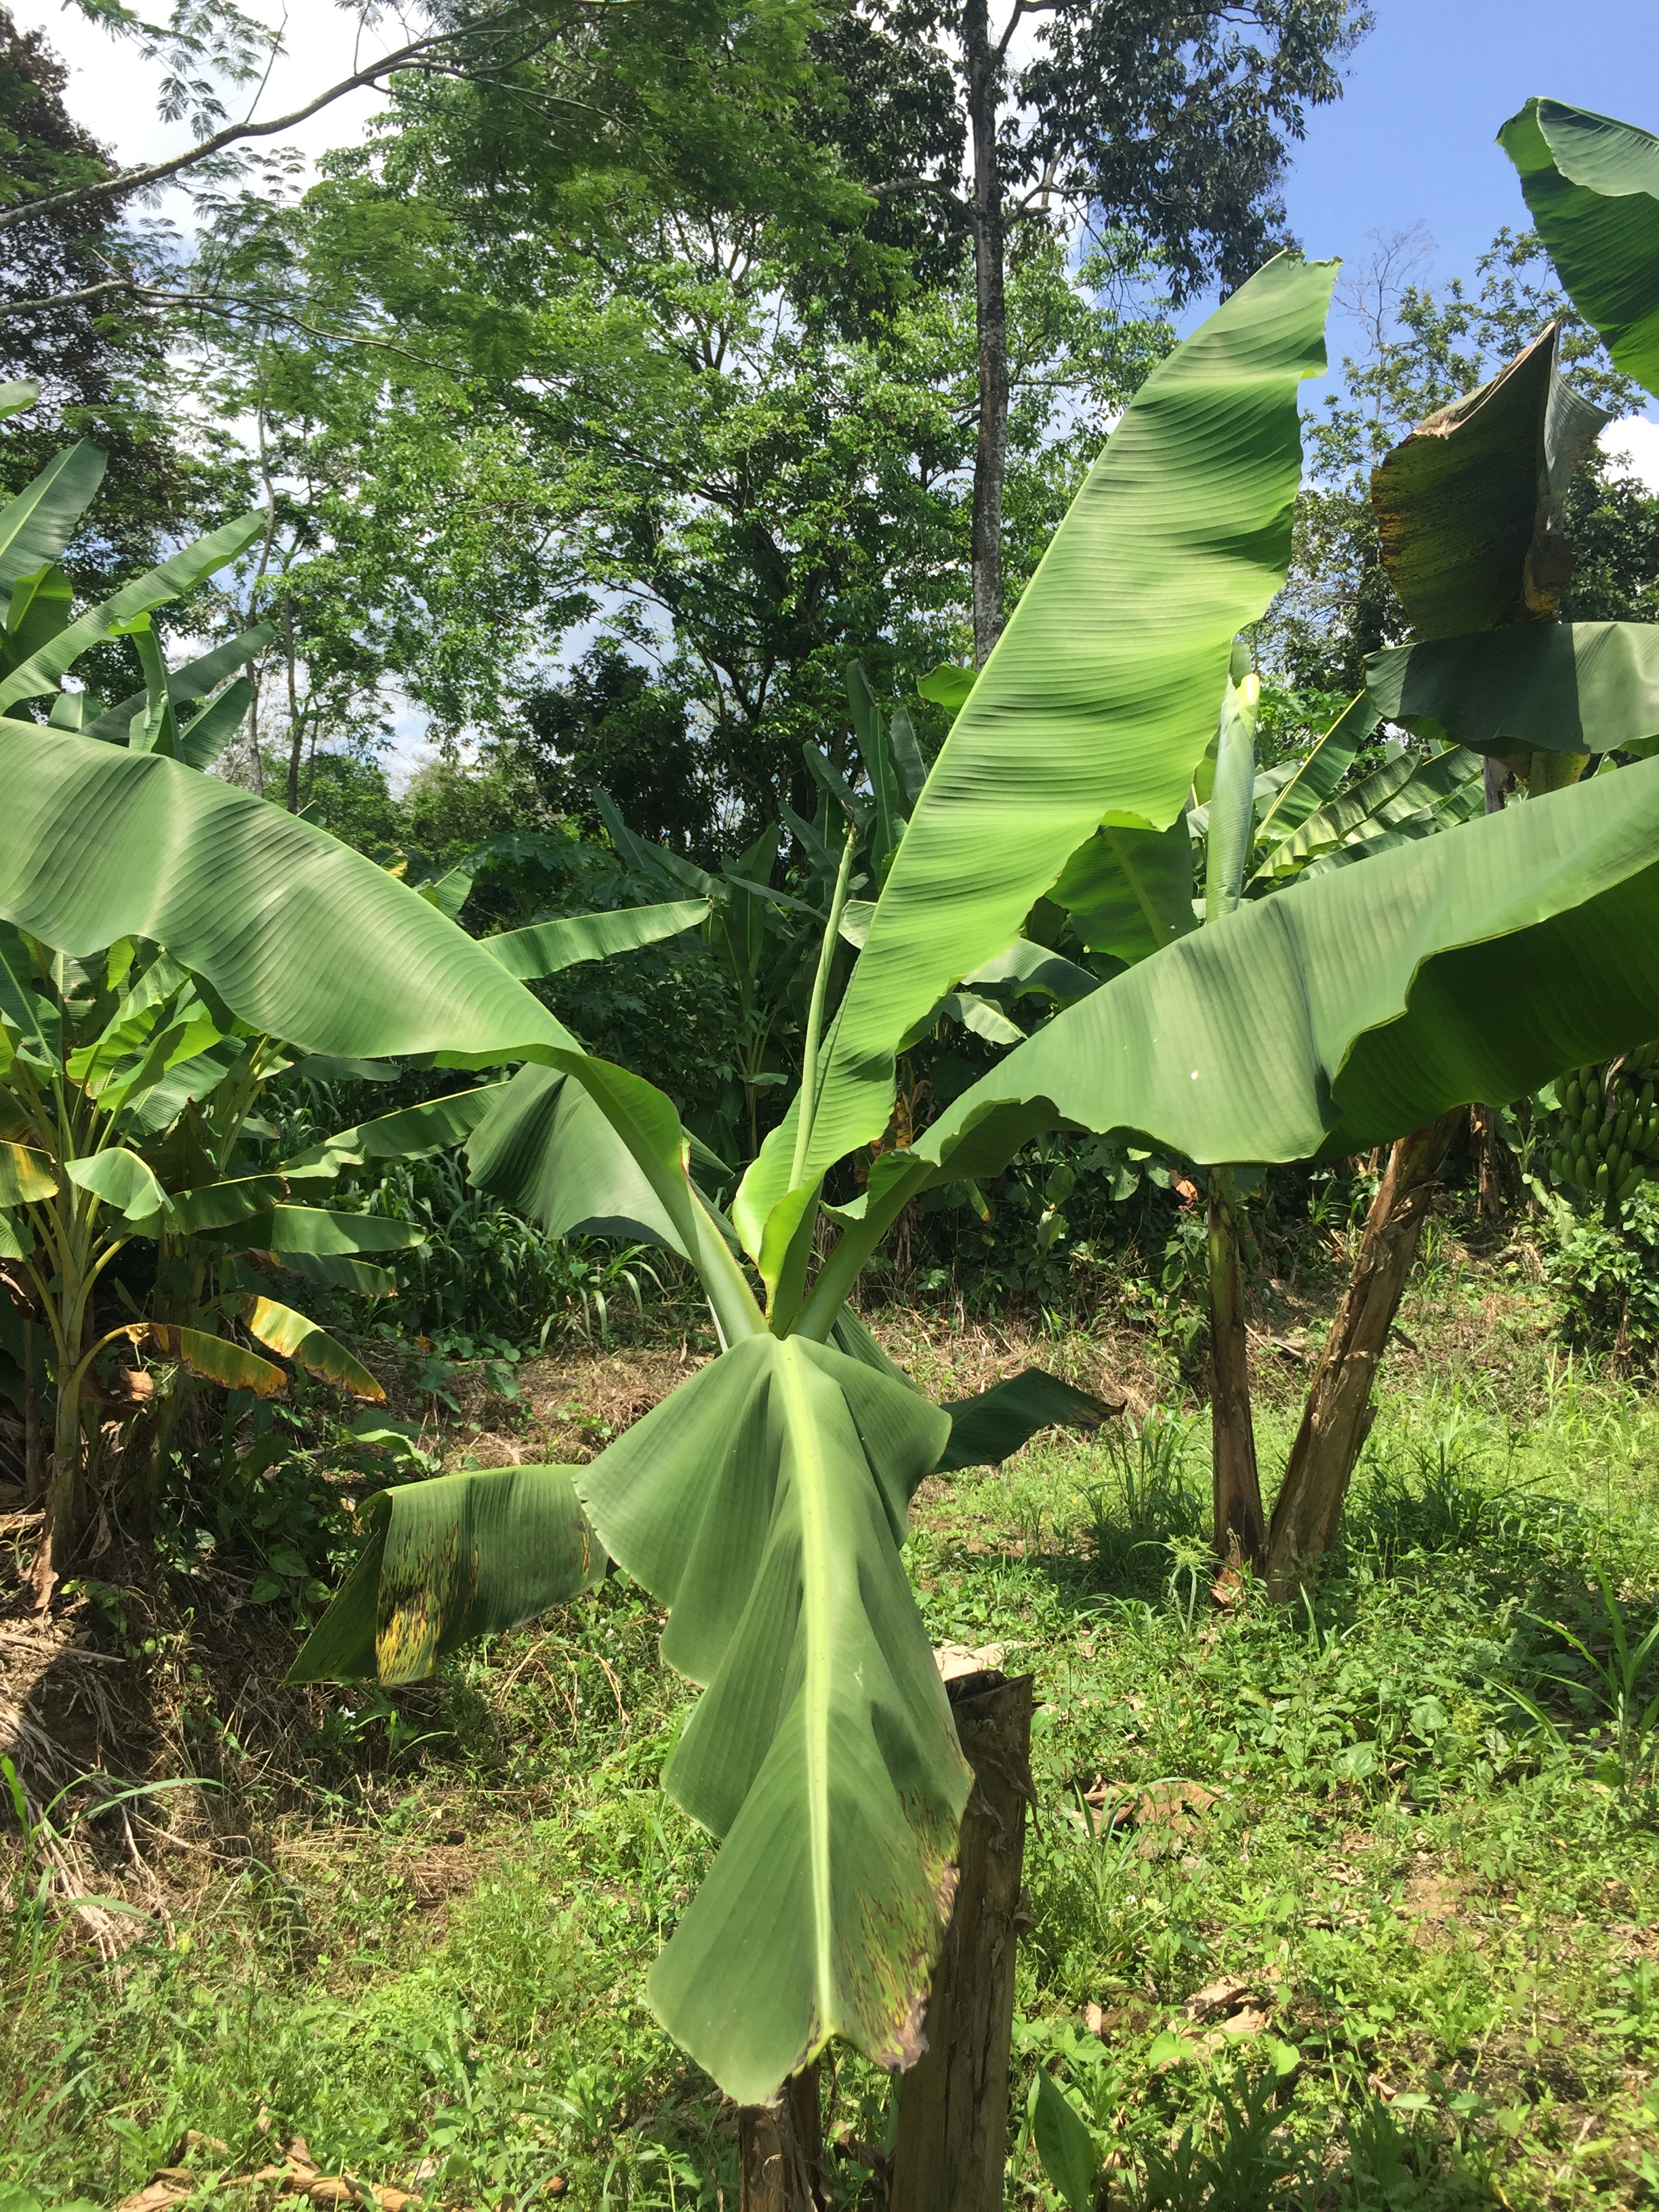candleleafs: (786, 819, 861, 1160), (1208, 669, 1265, 928)
